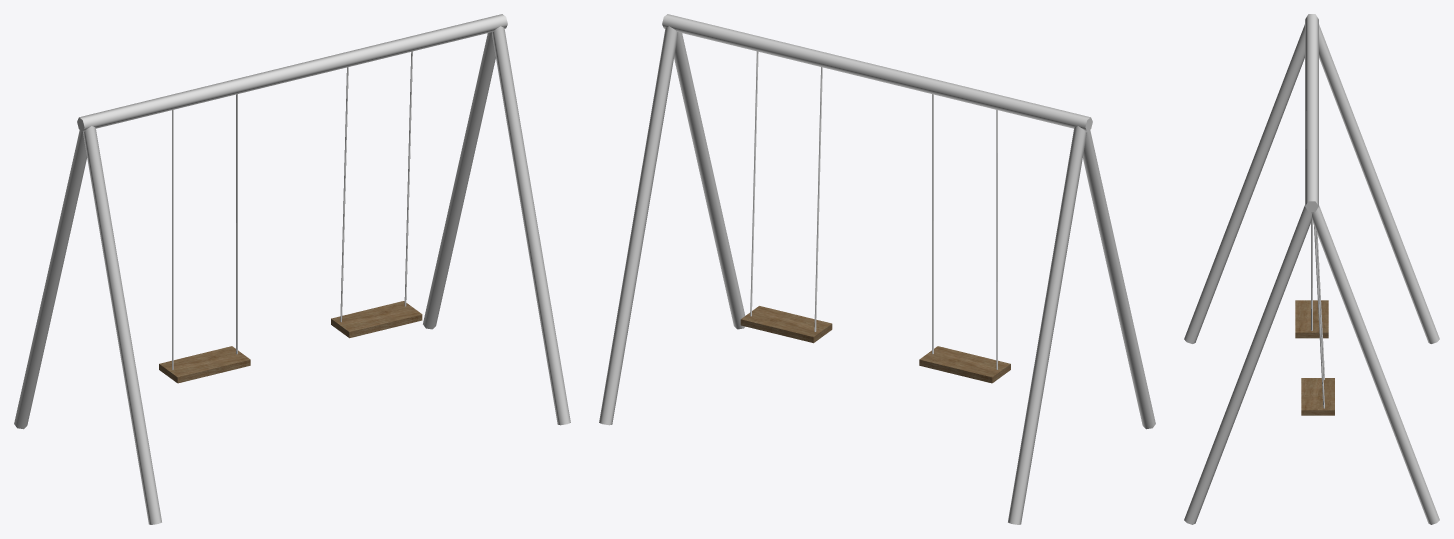
File: S1U_Swing.fbx
3 renders of one model, left to right at view 1: azimuth 30°, elevation 25°; view 2: azimuth 150°, elevation 25°; view 3: azimuth 270°, elevation 25°, orthographic. The views are drawn at different scales.
Visible parts, largest first — view 1: S1U_Swing; view 2: S1U_Swing; view 3: S1U_Swing.
Boxes of the visible parts, bbox=[...] form: S1U_Swing: bbox=[14, 14, 570, 524]; S1U_Swing: bbox=[599, 14, 1155, 524]; S1U_Swing: bbox=[1184, 14, 1439, 524].
Size of the model in its own units: 2.9 by 2.35 by 1.68.
